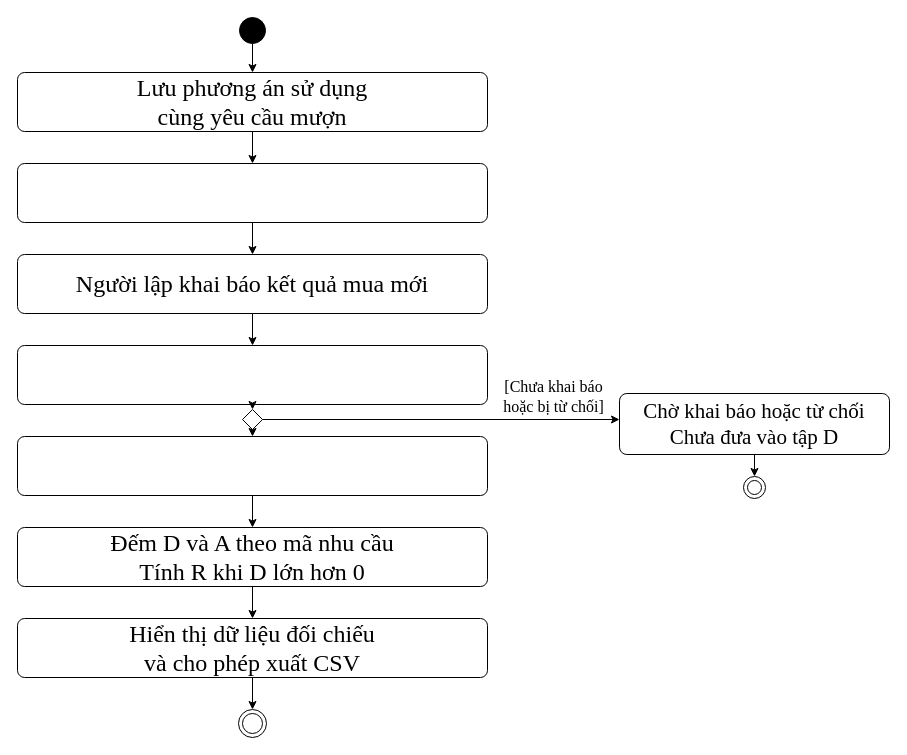
Some shapes in this 907 by 755 pixel diagram are drawn without their labels. The box of each missing label's shape, as (x1, y1, x2, y2) in pixels:
Chọn kỳ theo giờ Việt Nam và lọc theo loại tài sản: (16, 436, 488, 496)
Hoàn tất biên bản trả Nhu cầu xuất hiện trong danh sách: (16, 162, 488, 222)
Kiểm tra đã khai báo kết quả Quản lý đơn vị mượn xác minh: (16, 344, 488, 404)
